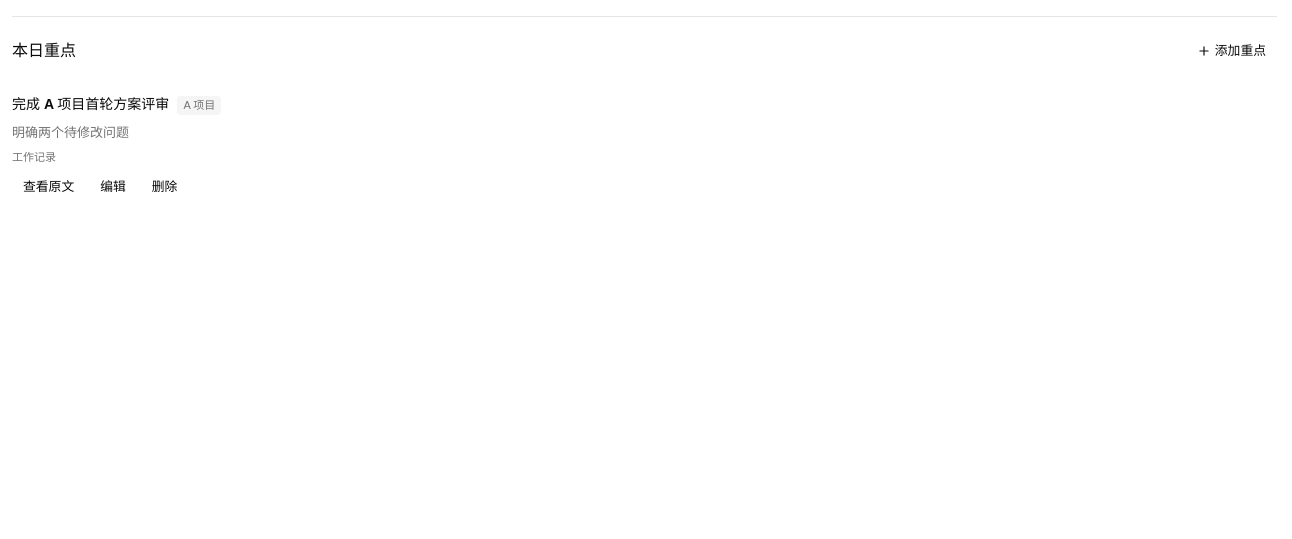
Test: saves trimmed fields with the held revision and clears the form only after success
The image size is (1292, 539).
Step 1. Click the button with aria-label "编辑重点：完成 A 项目首轮方案评审" → (113, 186), box [89, 172, 137, 200]
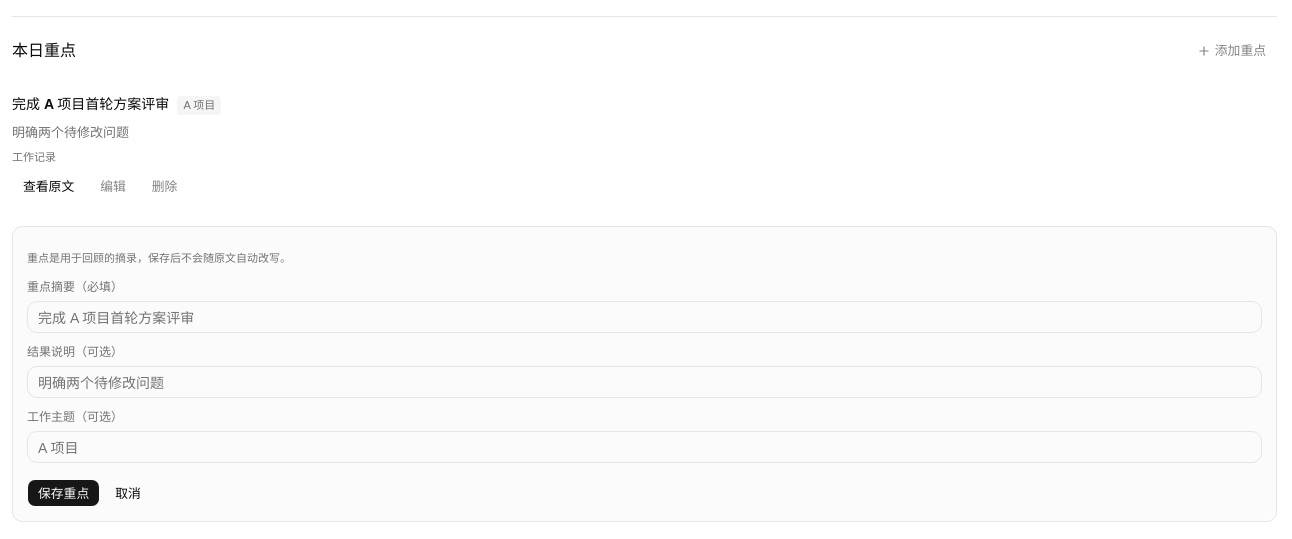
Step 2. Replace the text in the field labelled "工作主题（可选）" with " A 项目 " → (644, 447), box [27, 431, 1262, 463]
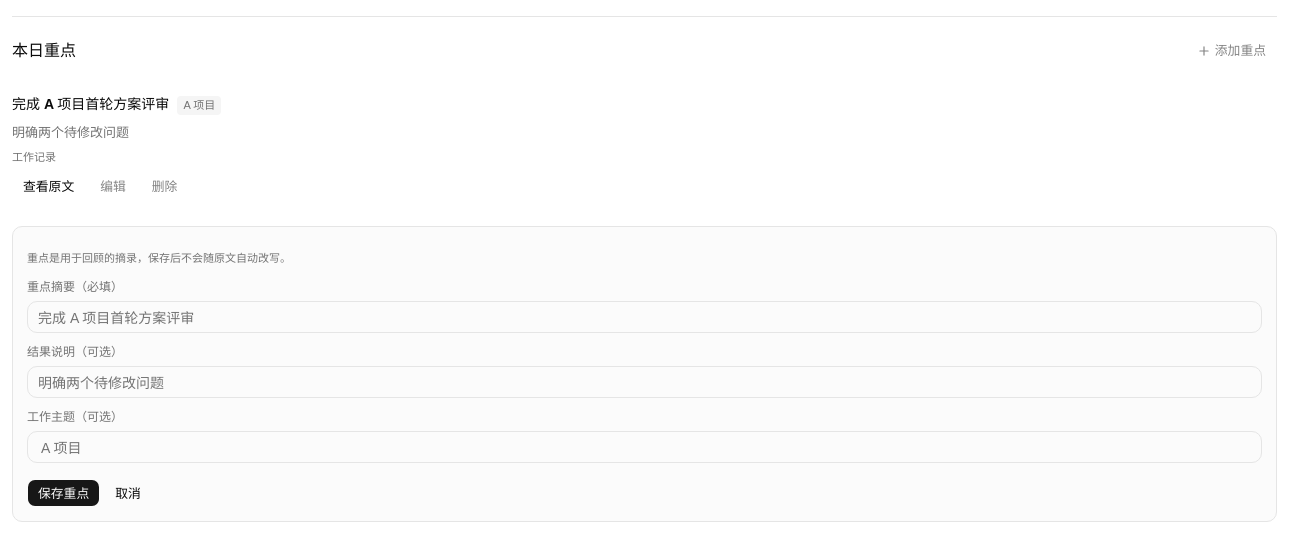
Step 3. Click the button "保存重点" → (64, 493), box [27, 479, 100, 507]
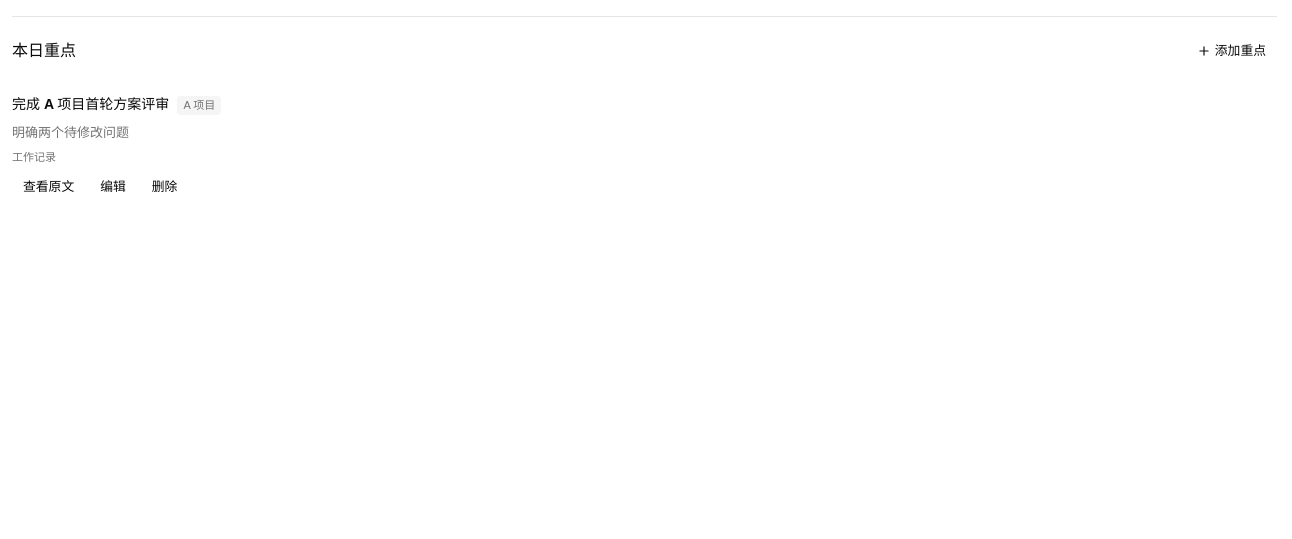
Check: the element "编辑重点" is gone
